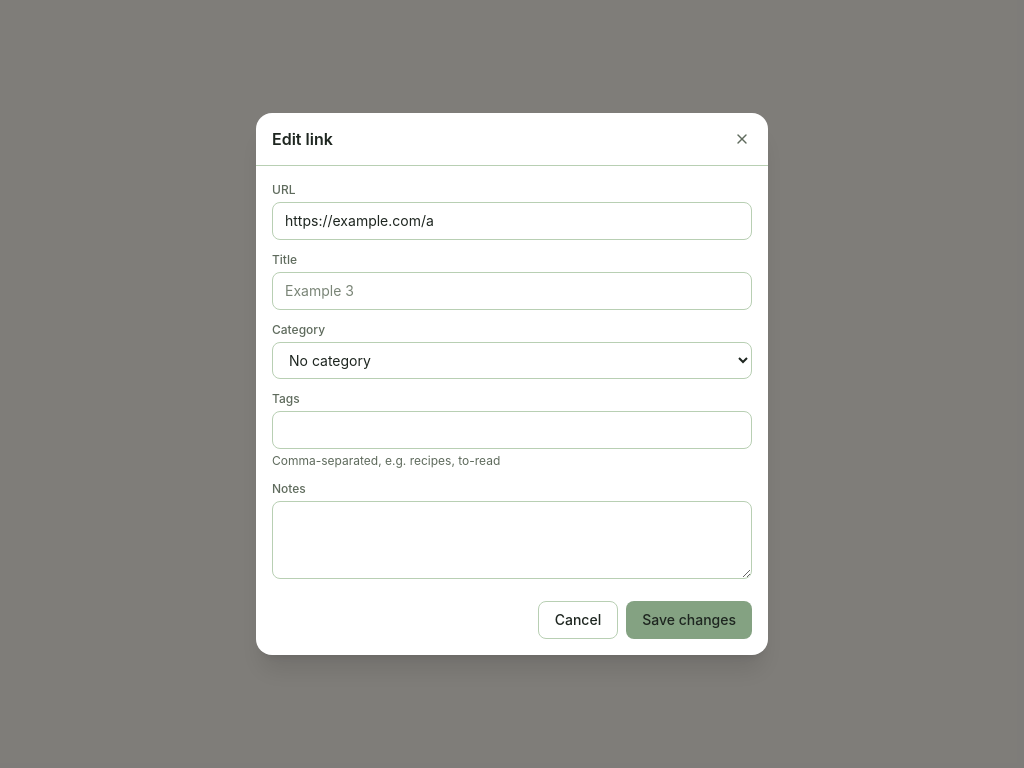
Test: LinkSheet › refuses to point a link at a page that is already saved
Replace the text in the field labelled "URL" with "https://example.com/b": (512, 221) [272,202,752,240]
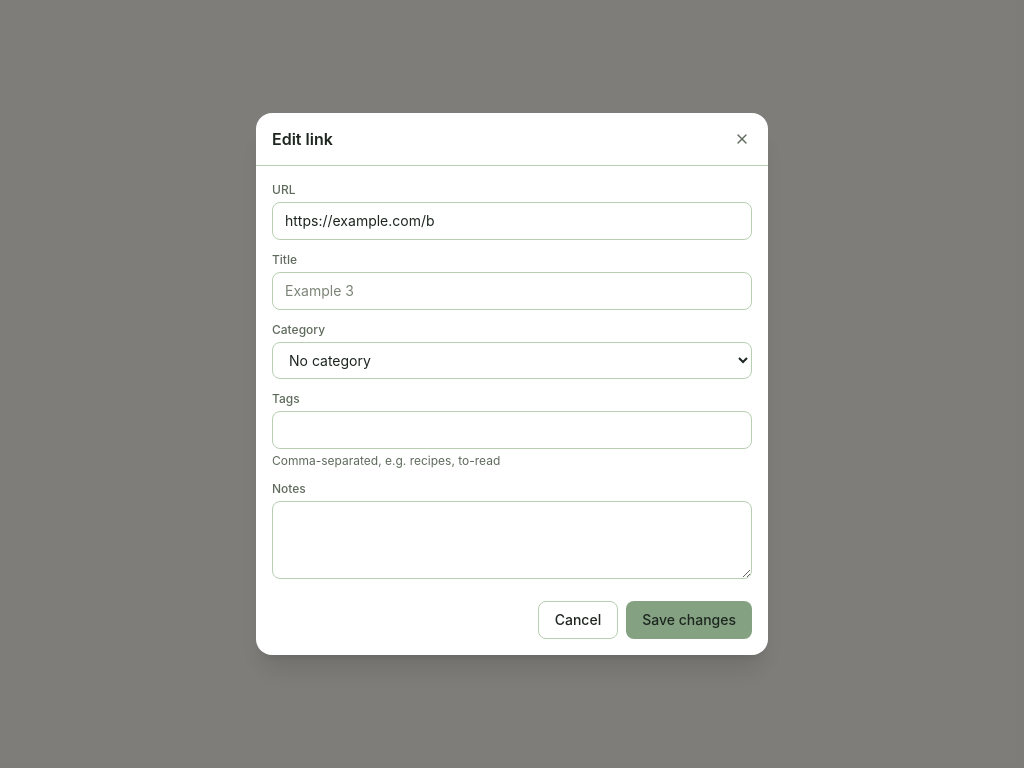
Click the button "Save changes": click(689, 620) [626,601,752,639]
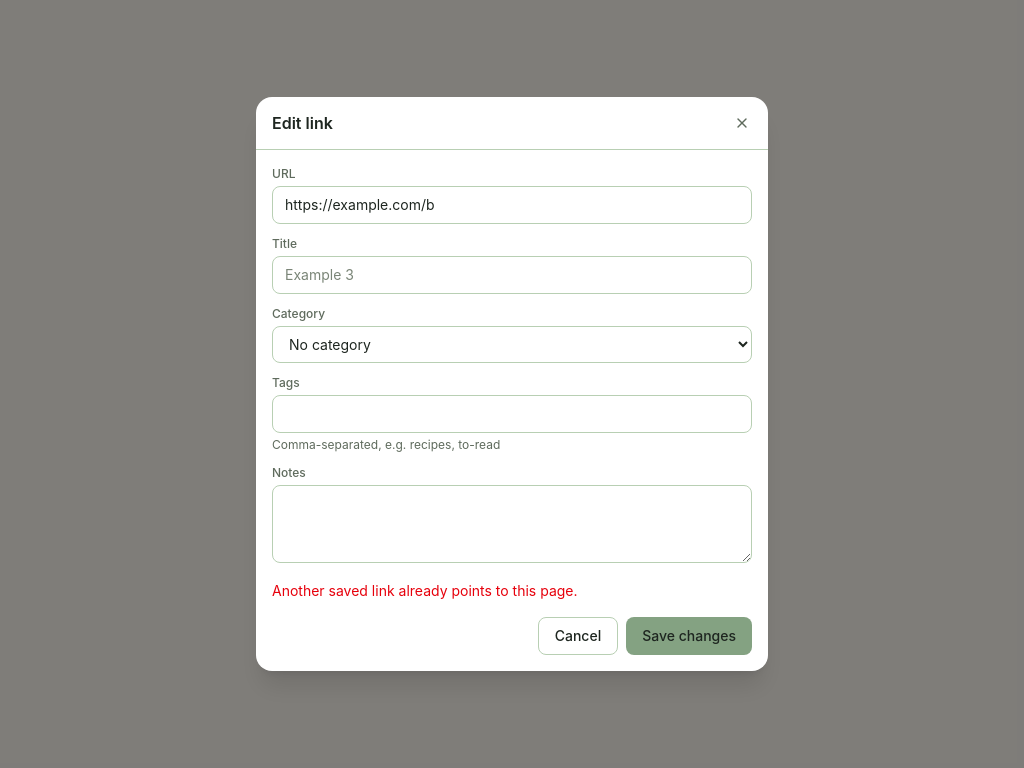
Now the message reads "Another saved link already points to this page.", box [272,582,578,599]
